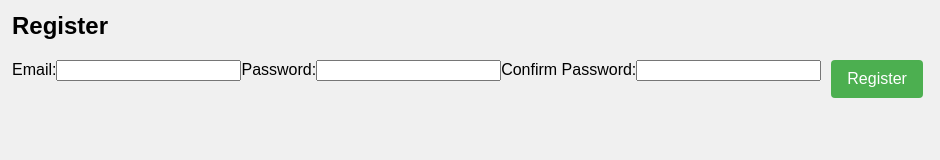
Register component › handles successful registration
Type "test@example.com" into the field labelled "Email:" at (149, 70), box [56,60,242,81]
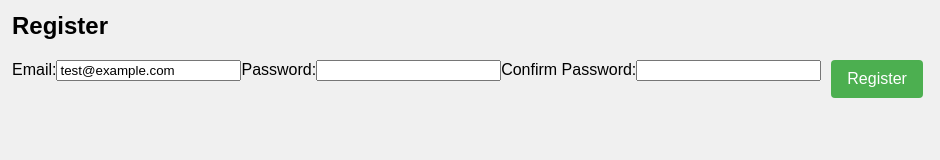
Type "password123" into the password field labelled "Password:" at (409, 70), box [316,60,501,81]
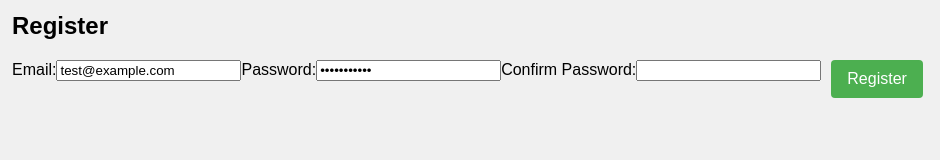
Type "password123" into the password field labelled "Confirm Password:" at (729, 70), box [636,60,821,81]
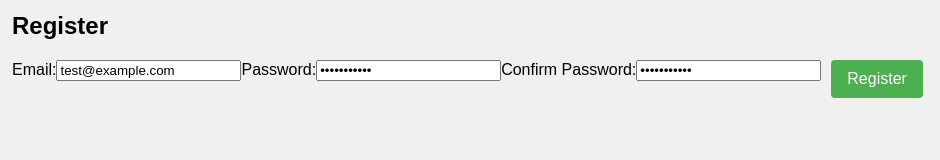
Click the button "Register" at (877, 79), box [831,60,923,98]
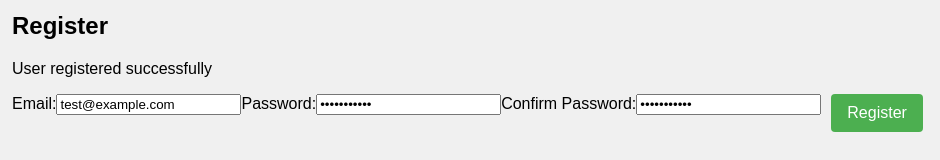
Expected: the text "User registered successfully" is shown, [12,60,212,77]
